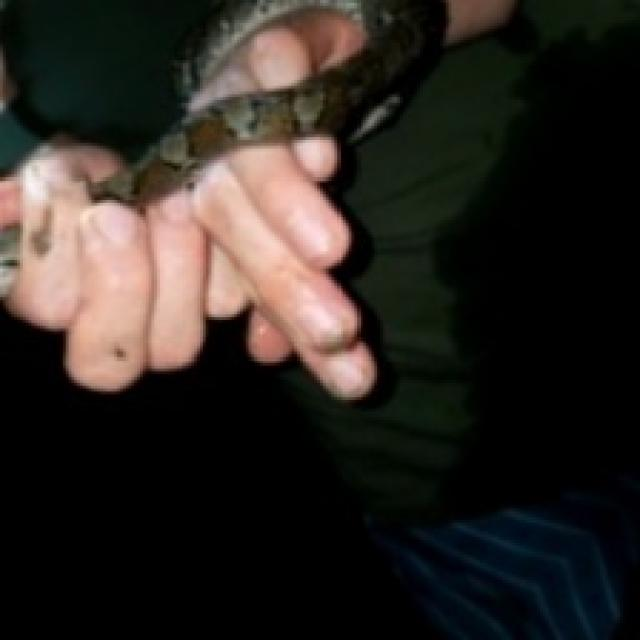reticulated python: (94, 1, 444, 206), (0, 226, 18, 298)
